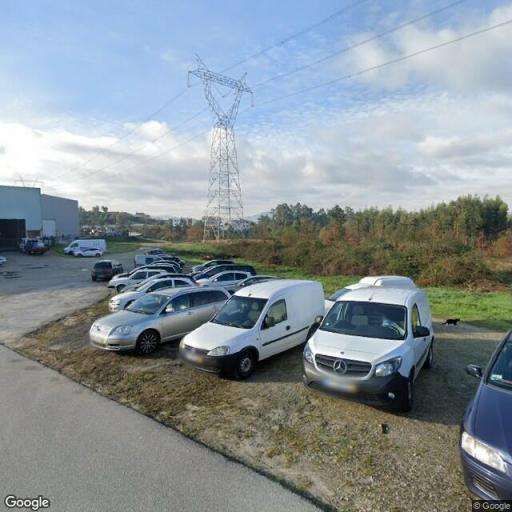wt_5: (186, 52, 258, 246)
